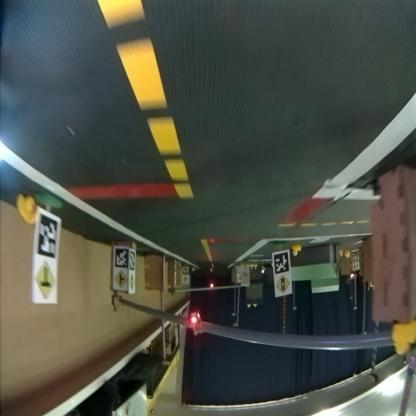Duckie: (394, 322, 416, 356), (18, 194, 38, 225), (294, 247, 301, 256), (345, 252, 351, 258)
Intersection sign: (37, 260, 58, 304), (116, 272, 128, 290), (183, 276, 189, 284)
QR code: (36, 213, 60, 259), (274, 250, 290, 274), (116, 249, 128, 268), (130, 250, 135, 272), (184, 268, 188, 275)
Signal sign: (275, 276, 292, 294), (130, 273, 136, 294)
Traffic light: (190, 312, 202, 334)
